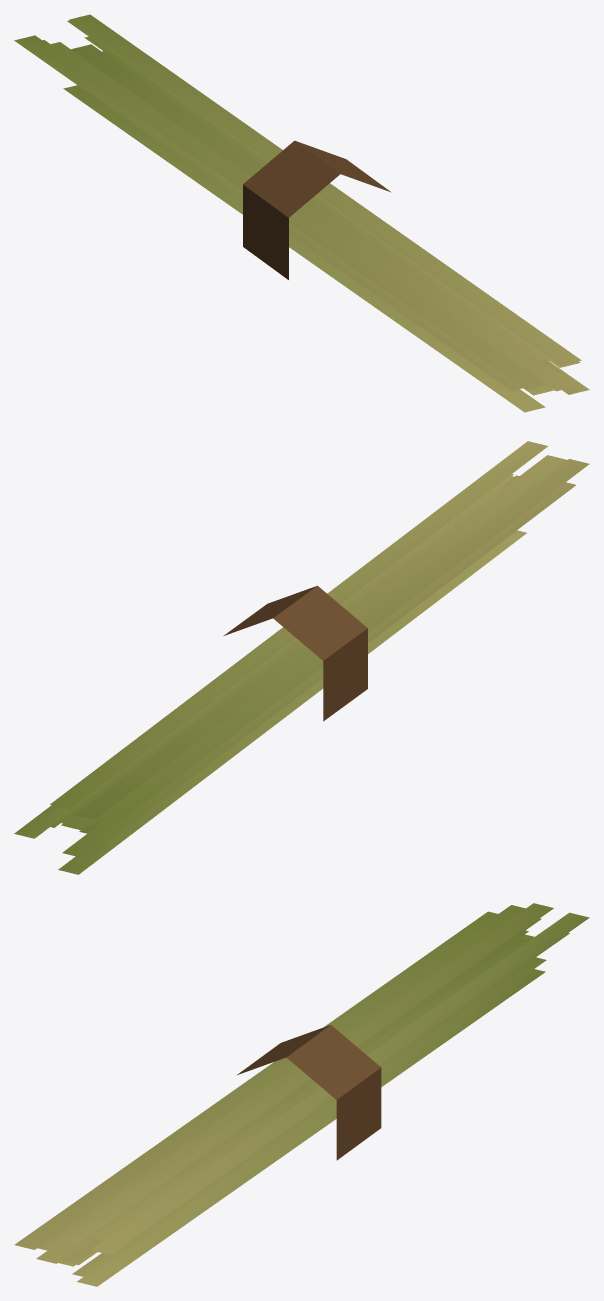
Rendered from fiber.glb.
The picture shows the model from 3 angles, top to bottom: view 1: azimuth 30°, elevation 25°; view 2: azimuth 150°, elevation 25°; view 3: azimuth 330°, elevation 25°; orthographic projection. The views are drawn at different scales.
Visible parts, largest first — view 1: fiber_leaf, fiber_solid; view 2: fiber_leaf, fiber_solid; view 3: fiber_leaf, fiber_solid.
Part boxes in pixels (x1,y1,x2,y2): fiber_leaf: (14, 14, 589, 412); fiber_solid: (243, 140, 391, 279); fiber_leaf: (14, 441, 589, 874); fiber_solid: (223, 585, 367, 721); fiber_leaf: (14, 903, 589, 1286); fiber_solid: (237, 1025, 381, 1160).
Bounding box in the file's own units: 0.0779 × 0.09 × 0.6781.
